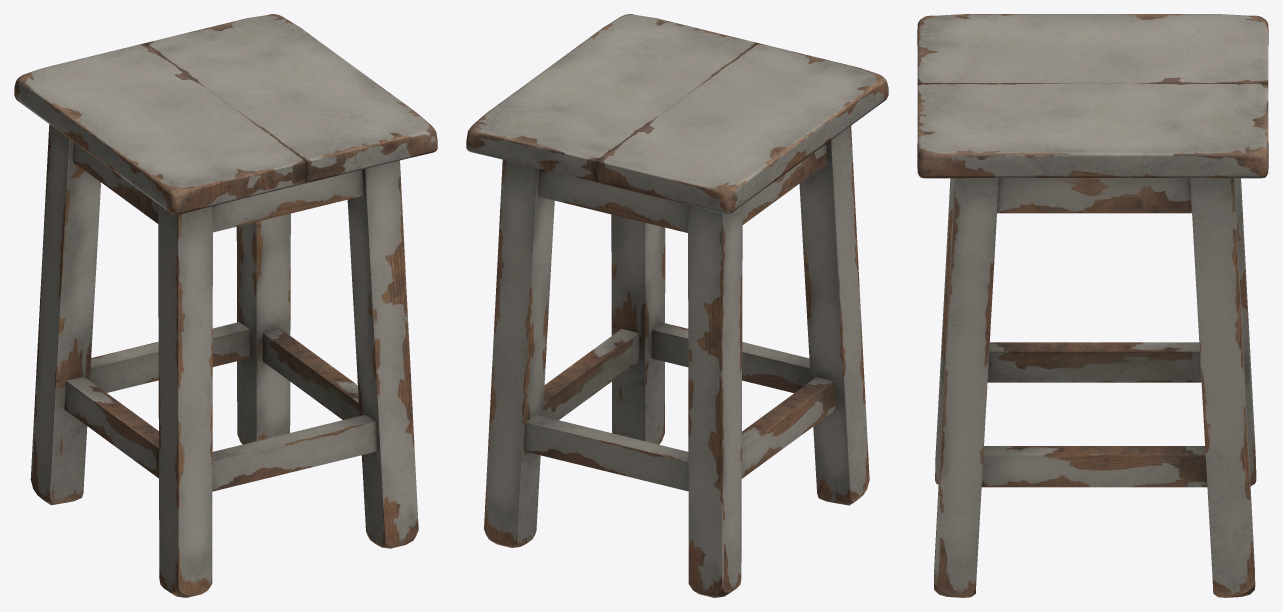
File: painted_wooden_stool.glb
The picture shows the model from 3 angles, left to right: view 1: azimuth 30°, elevation 25°; view 2: azimuth 150°, elevation 25°; view 3: azimuth 270°, elevation 25°; orthographic projection. The views are drawn at different scales.
Visible parts, largest first — view 1: painted_wooden_stool; view 2: painted_wooden_stool; view 3: painted_wooden_stool.
Boxes of the visible parts, box(x1,y1,x2,y2) form: painted_wooden_stool: box(14, 14, 437, 597); painted_wooden_stool: box(466, 14, 888, 597); painted_wooden_stool: box(917, 14, 1268, 597).
Size of the model in its own units: 0.3848 by 0.5789 by 0.4061.
1 material, 1 textured.
